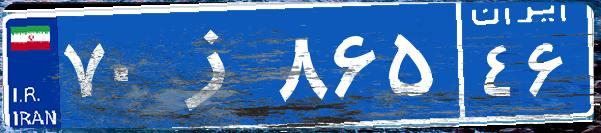0: (110, 28, 158, 105)
4: (475, 38, 525, 113)
5: (385, 28, 445, 110)
6: (330, 28, 385, 110), (525, 38, 570, 115)
7: (57, 26, 110, 107)
8: (273, 28, 330, 110)
ز: (158, 15, 273, 115)
